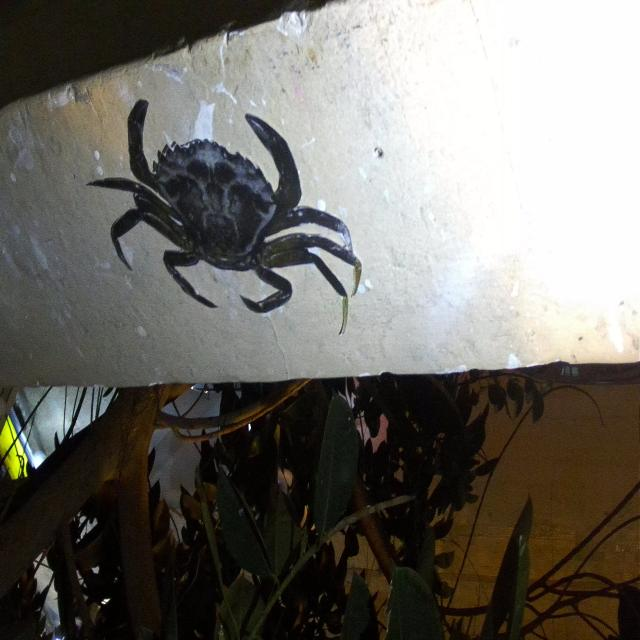European_Green_Crab: (89, 88, 368, 335)
